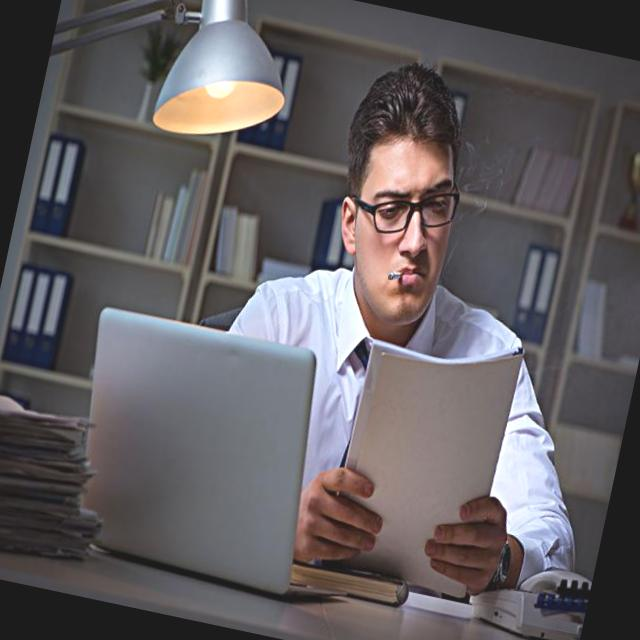cigarette: (378, 258, 411, 290)
